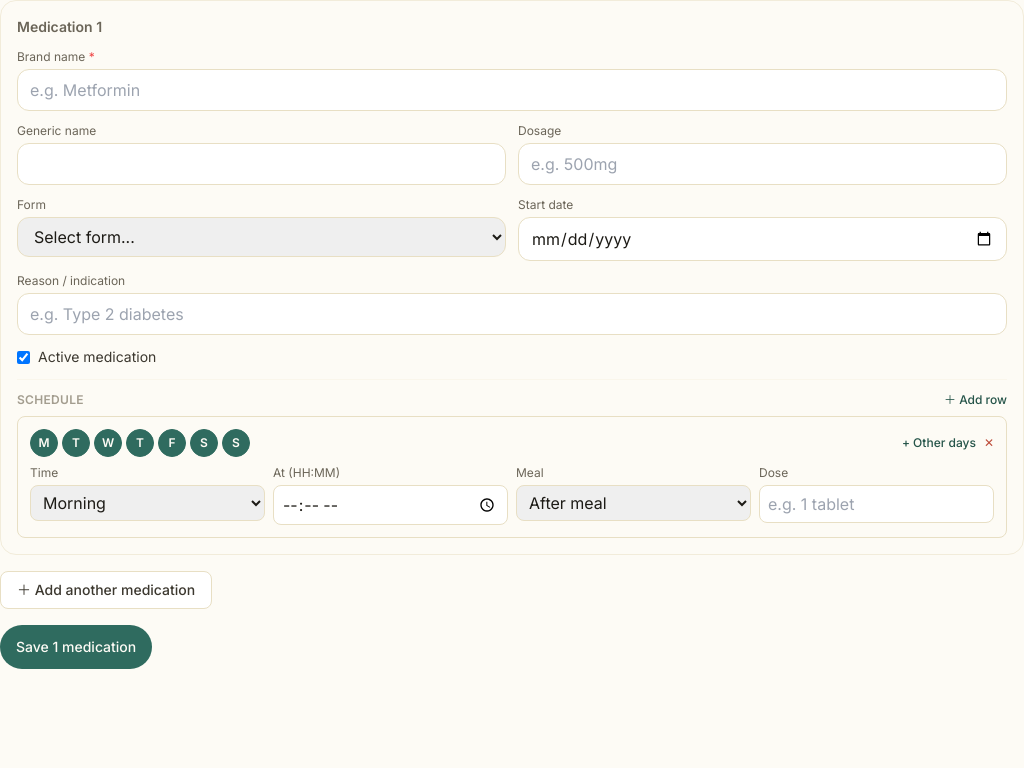
Test: MedicationForm › removes a medication card
This screenshot has width=1024, height=768.
Click the button "＋ Add another medication".
click(106, 590)  # box top-left (0, 571), bottom-right (212, 609)
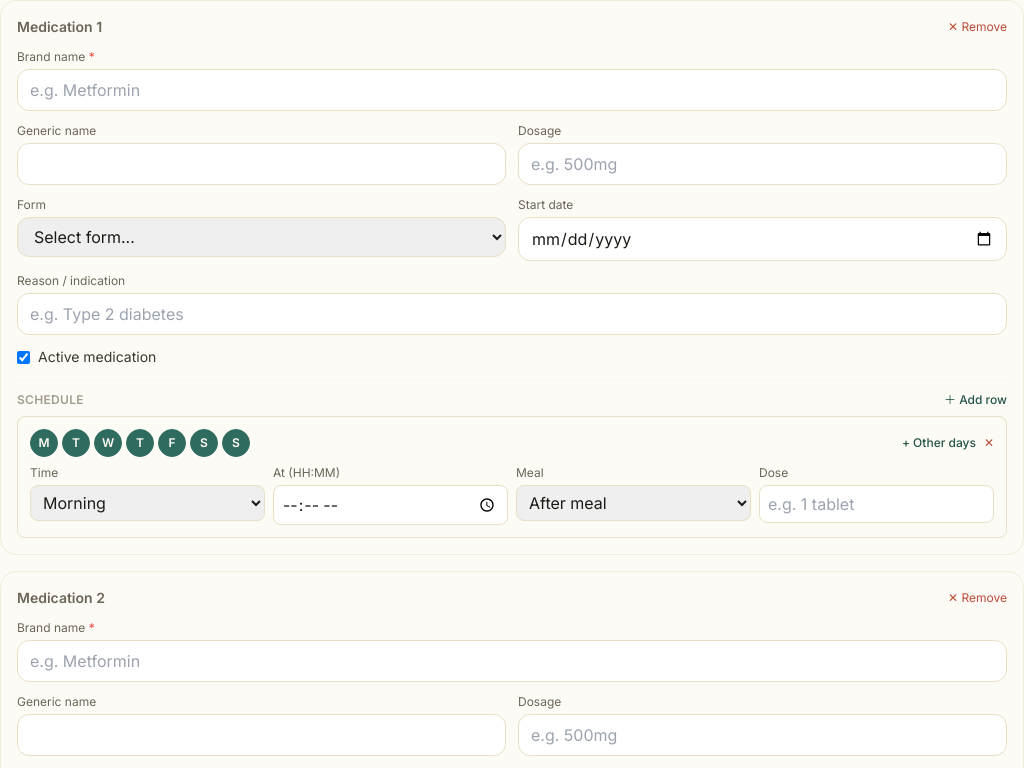
Expected: the number of buttons "✕ Remove" is 2
Click the 1st button "✕ Remove".
click(978, 27)  # box top-left (948, 19), bottom-right (1007, 35)
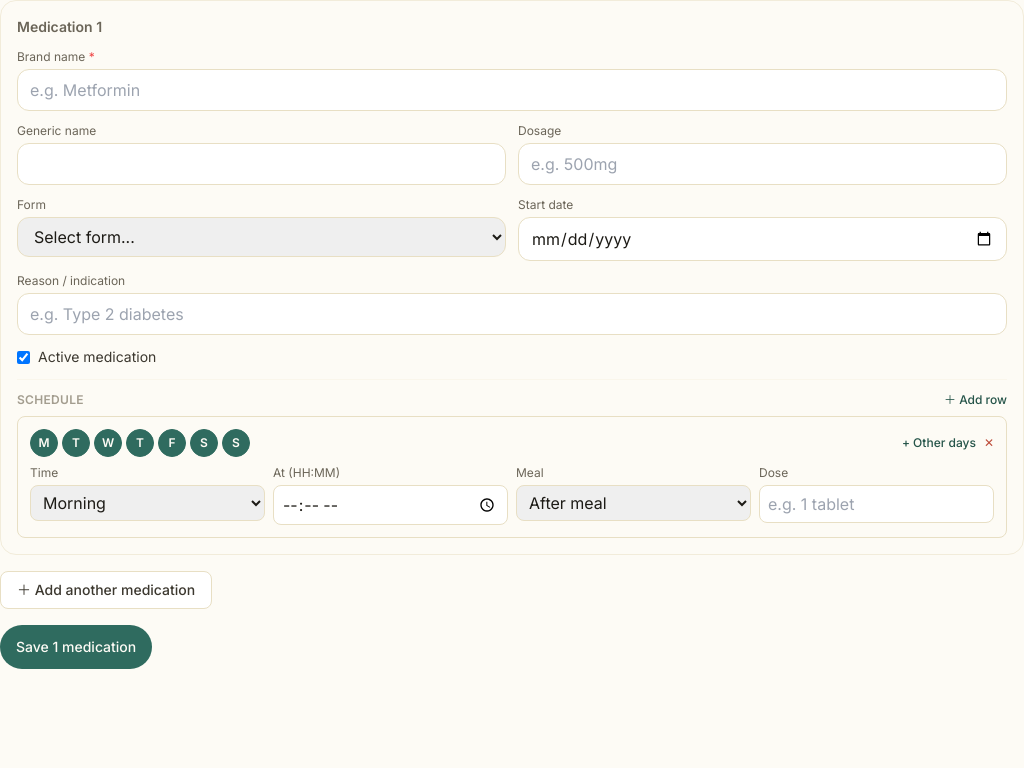
Expected: the button "✕ Remove" is gone
